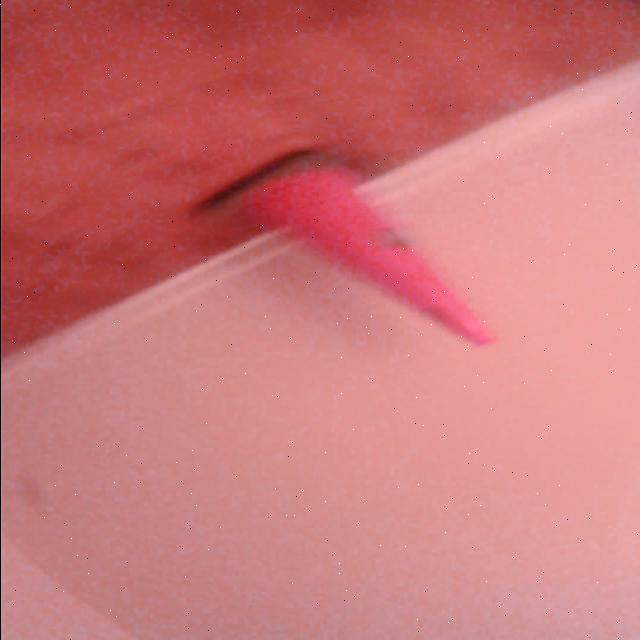traffic cone: (190, 147, 503, 350)
